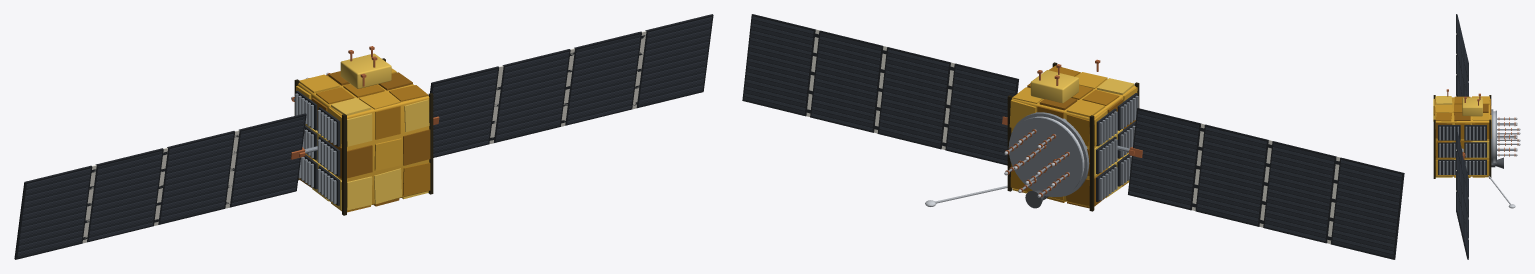
Rendered from orbital-vsat.glb.
3 renders of one model, left to right at view 1: azimuth 30°, elevation 25°; view 2: azimuth 150°, elevation 25°; view 3: azimuth 270°, elevation 25°, orthographic. The views are drawn at different scales.
Parts seen in each view (by area): view 1: VSAT_Wing_L, VSAT_Wing_R, VSAT_Bus; view 2: VSAT_Wing_L, VSAT_Wing_R, VSAT_Bus; view 3: VSAT_Bus, VSAT_Wing_R, VSAT_Wing_L.
Part boxes in pixels (x1,y1,x2,y2): VSAT_Wing_L: (14,113,317,259); VSAT_Wing_R: (430,14,713,157); VSAT_Bus: (291,46,433,215); VSAT_Wing_L: (1117,108,1404,259); VSAT_Wing_R: (742,14,1018,165); VSAT_Bus: (925,59,1139,211); VSAT_Bus: (1433,89,1520,208); VSAT_Wing_R: (1456,130,1468,259); VSAT_Wing_L: (1456,14,1468,96).
Bounding box in the file's own units: 15.9 × 3.15 × 2.98.
